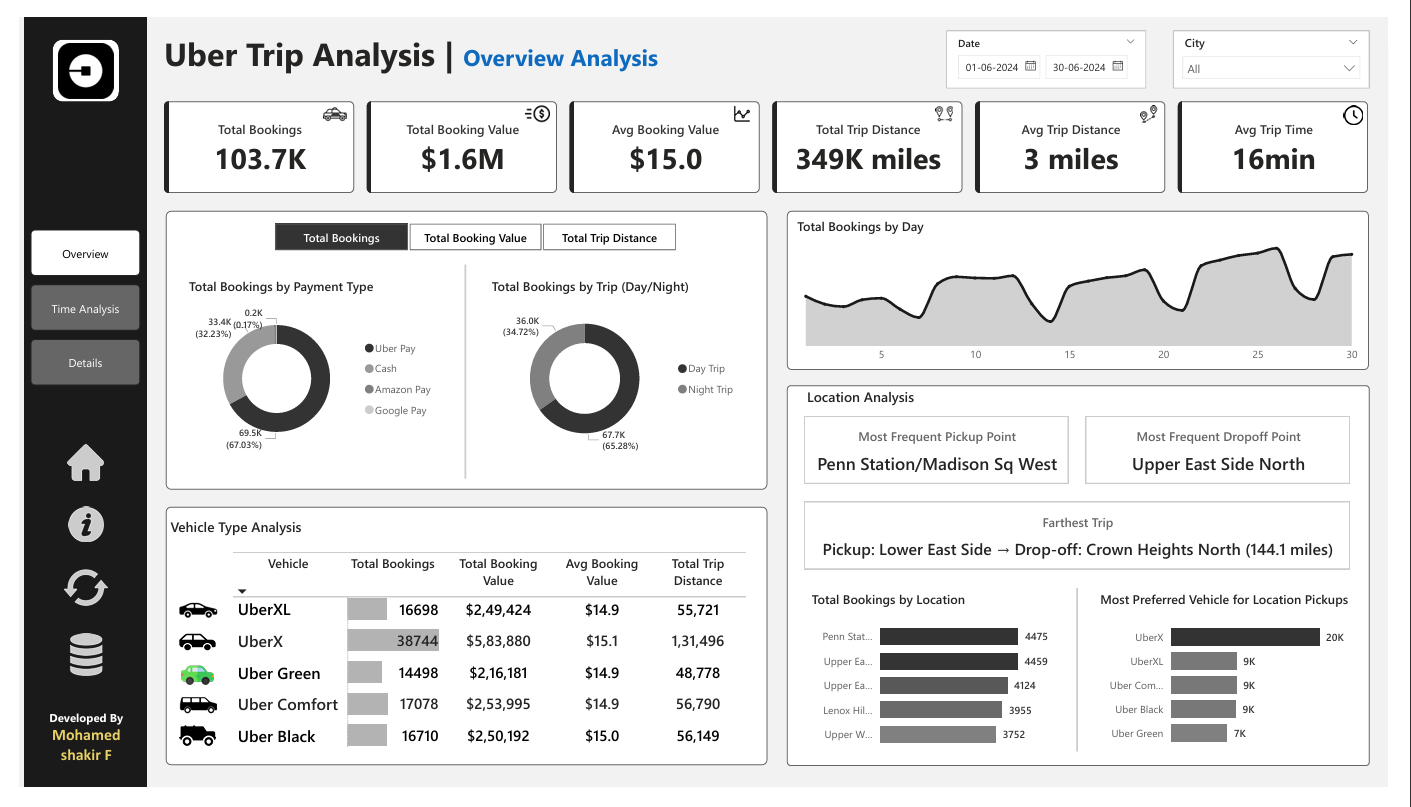

This screenshot's page, from the dashboard's own definition file:
{"tool":"powerbi","page":{"name":" Overview","canvas":[1600,900],"ordinal":0},"visuals":[{"type":"shape","box":[896.8,429.8,681.2,444.7],"z":0},{"type":"shape","box":[38.8,25.5,76.6,72.5],"z":1000,"group":"g1"},{"type":"shape","box":[171.1,572.4,702.9,301.6],"z":1000},{"type":"image","box":[40.1,21.6,74.8,80.4],"z":2000,"group":"g1"},{"type":"shape","box":[171.1,225.9,702.9,325.7],"z":2000},{"type":"shape","box":[6.5,0,142.3,900.3],"z":3000},{"type":"textbox","box":[164.2,11.6,818.3,62.5],"z":4000},{"type":"cardVisual","fields":{"Data":["Trip Details.Total Bookings","Trip Details.Total Booking Value","Trip Details.Avg Booking Value","Trip Details.Total Trip Distance","Trip Details.Avg Trip Distance","Trip Details.Average Trip Time (Minutes)"]},"box":[164.5,93.2,1418,117.3],"z":5000},{"type":"group","id":"g1","title":"Group 1","box":[38.8,21.6,76.5,80.9],"z":6000},{"type":"pivotTable","fields":{"Rows":["Trip Details.Vehicle"],"Values":["Trip Details.Total Bookings","Trip Details.Total Booking Value","Trip Details.Avg Booking Value","Trip Details.Total Trip Distance Meaure"]},"box":[244.7,619.9,610.2,245.8],"z":7000},{"type":"slicer","fields":{"Values":["Dynamic Measure.Dynamic Measure"]},"box":[272.8,233.9,518.6,45.3],"z":8000},{"type":"donutChart","fields":{"Y":["Trip Details.Total Trip Distance Meaure"],"Category":["Trip Details.Trip Type (Day/Night)"]},"box":[546.6,304,301.9,215.6],"z":9000},{"type":"donutChart","fields":{"Y":["Trip Details.Total Trip Distance Meaure"],"Category":["Trip Details.type_payment_type"]},"box":[193,304,301.9,215.6],"z":10000},{"type":"shape","box":[505.7,288.9,30.2,250.1],"z":11000},{"type":"image","box":[165.3,663.1,86.3,60.4],"z":12000},{"type":"image","box":[180.4,703,56.1,53.9],"z":13000},{"type":"image","box":[171.2,775.2,74.4,58.2],"z":14000},{"type":"image","box":[178.8,744.6,57,48.3],"z":15000},{"type":"image","box":[179.3,812.9,58.2,52.8],"z":16000},{"type":"card","fields":{"Values":["Trip Details.Vehicle Type Title"]},"box":[171.4,582.2,163.9,30.2],"z":17000},{"type":"cardVisual","fields":{"Data":["Trip Details.Most Frequent Pickup","Trip Details.Most Frequent Dropoff Point"]},"box":[911.7,460.8,648.1,89.9],"z":18000},{"type":"card","fields":{"Values":["Trip Details.Locaton Type Title"]},"box":[900.7,429.3,163.9,31.3],"z":19000},{"type":"barChart","fields":{"Category":["Location Table.Location"],"Y":["Trip Details.Total Bookings"]},"box":[921,670.2,288.5,194.8],"z":20000},{"type":"barChart","title":"Most Preferred Vehicle for Location Pickups","fields":{"Category":["Trip Details.Vehicle"],"Y":["CountNonNull(Trip Details.PULocationID)"]},"box":[1258.2,670.2,301.6,194.1],"z":21000},{"type":"cardVisual","fields":{"Data":["Trip Details.Farthest Trip"]},"box":[911.7,560.6,648.1,89.9],"z":22000},{"type":"slicer","fields":{"Values":["Location Table.City"]},"box":[1347.7,15.1,229.9,68.1],"z":23000},{"type":"shape","box":[1221.4,667.3,29.7,190.4],"z":24000},{"type":"shape","box":[896.8,226.1,679.7,185.9],"z":25000},{"type":"areaChart","fields":{"Category":["Calendar Table.Date.Variation.Date Hierarchy.Day"],"Y":["Trip Details.Total Bookings"]},"box":[904.3,233.5,667.8,178.5],"z":26000},{"type":"slicer","fields":{"Values":["Calendar Table.Date"]},"box":[1083,15.1,234.4,68.1],"z":27000},{"type":"image","box":[349.6,93,38.5,38.5],"z":28000},{"type":"image","box":[586.1,91.7,38.5,41.2],"z":29000},{"type":"image","box":[829.4,95.7,30.6,33.2],"z":30000},{"type":"image","box":[1066,97,30.6,30.6],"z":31000},{"type":"image","box":[1305.2,98.4,30.6,30.6],"z":32000},{"type":"image","box":[1543.1,95.7,33.2,37.2],"z":33000},{"type":"pageNavigator","box":[13.1,247.7,128.4,182.1],"z":34000},{"type":"image","box":[46.7,631.1,61.6,69.5],"z":35000},{"type":"image","box":[45.4,715,64.2,60.3],"z":36000},{"type":"image","box":[50.6,489.6,53.7,60.3],"z":37000},{"type":"image","box":[47.7,566.9,59,52.4],"z":38000},{"type":"textbox","box":[13.7,804.8,128.7,95.8],"z":40000}]}

Visuals, with their boxes in screenshot pixels (x1, y1, x2, y2), scaled from the page's 1600x900 canvas onto the 1411x807 screenshot:
shape: bbox(791, 385, 1392, 784)
shape: bbox(34, 23, 102, 88)
shape: bbox(151, 513, 771, 784)
image: bbox(35, 19, 101, 91)
shape: bbox(151, 203, 771, 495)
shape: bbox(6, 0, 131, 806)
textbox: bbox(145, 10, 866, 66)
cardVisual - Trip Details.Total Bookings x Trip Details.Total Booking Value: bbox(145, 84, 1396, 189)
"Group 1" group: bbox(34, 19, 102, 92)
pivotTable - Trip Details.Vehicle x Trip Details.Total Bookings: bbox(216, 556, 754, 776)
slicer - Dynamic Measure.Dynamic Measure: bbox(241, 210, 698, 250)
donutChart - Trip Details.Total Trip Distance Meaure x Trip Details.Trip Type (Day/Night): bbox(482, 273, 748, 466)
donutChart - Trip Details.Total Trip Distance Meaure x Trip Details.type_payment_type: bbox(170, 273, 436, 466)
shape: bbox(446, 259, 473, 483)
image: bbox(146, 595, 222, 649)
image: bbox(159, 630, 209, 679)
image: bbox(151, 695, 217, 747)
image: bbox(158, 668, 208, 711)
image: bbox(158, 729, 209, 776)
card - Trip Details.Vehicle Type Title: bbox(151, 522, 296, 549)
cardVisual - Trip Details.Most Frequent Pickup x Trip Details.Most Frequent Dropoff Point: bbox(804, 413, 1376, 494)
card - Trip Details.Locaton Type Title: bbox(794, 385, 939, 413)
barChart - Location Table.Location x Trip Details.Total Bookings: bbox(812, 601, 1067, 776)
"Most Preferred Vehicle for Location Pickups" barChart: bbox(1110, 601, 1376, 775)
cardVisual - Trip Details.Farthest Trip: bbox(804, 503, 1376, 583)
slicer - Location Table.City: bbox(1189, 14, 1391, 75)
shape: bbox(1077, 598, 1103, 769)
shape: bbox(791, 203, 1390, 369)
areaChart - Calendar Table.Date.Variation.Date Hierarchy.Day x Trip Details.Total Bookings: bbox(797, 209, 1386, 369)
slicer - Calendar Table.Date: bbox(955, 14, 1162, 75)
image: bbox(308, 83, 342, 118)
image: bbox(517, 82, 551, 119)
image: bbox(731, 86, 758, 116)
image: bbox(940, 87, 967, 114)
image: bbox(1151, 88, 1178, 116)
image: bbox(1361, 86, 1390, 119)
pageNavigator: bbox(12, 222, 125, 385)
image: bbox(41, 566, 96, 628)
image: bbox(40, 641, 97, 695)
image: bbox(45, 439, 92, 493)
image: bbox(42, 508, 94, 555)
textbox: bbox(12, 722, 126, 806)
